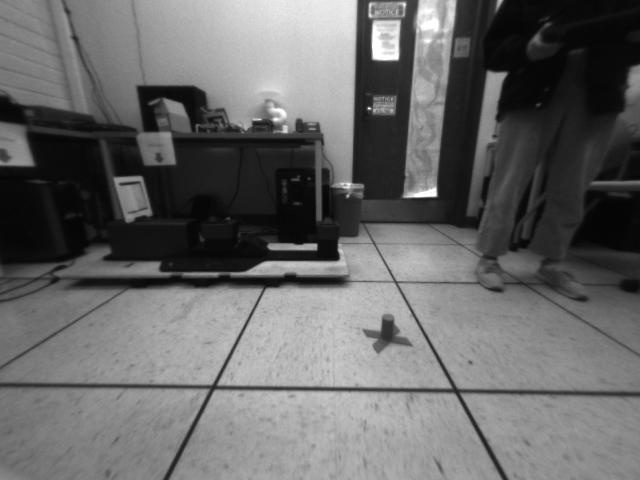x: (364, 314, 415, 355)
